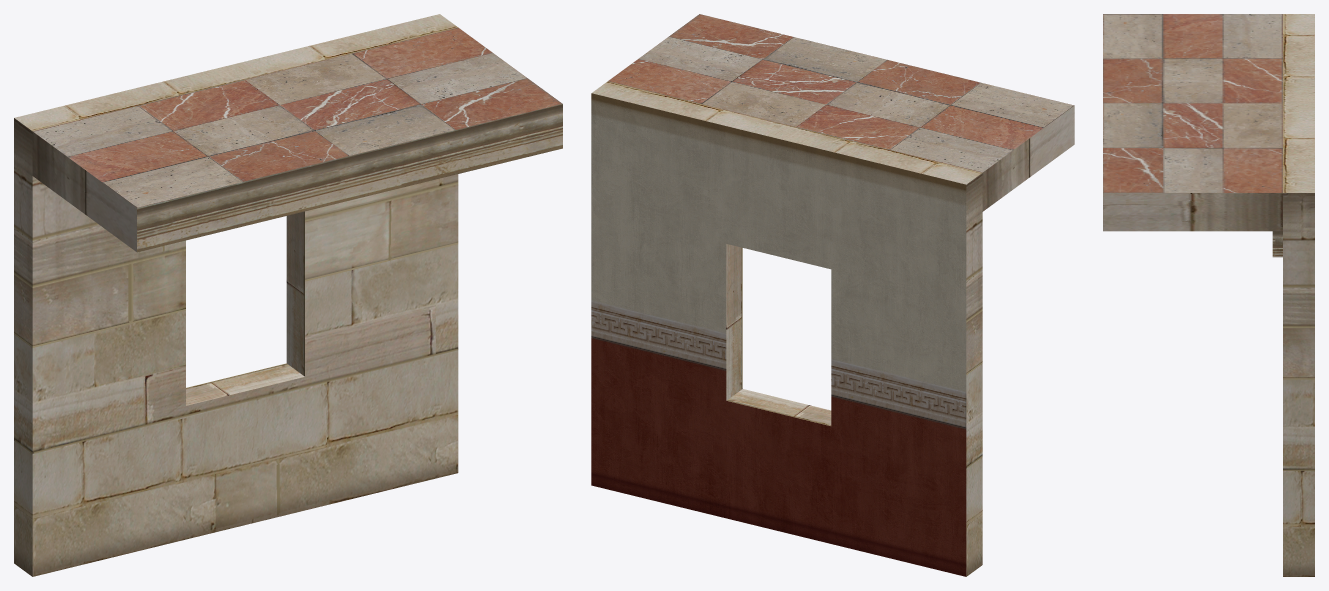
Rendered from svspartawindow3.dae.
3 renders of one model, left to right at view 1: azimuth 30°, elevation 25°; view 2: azimuth 150°, elevation 25°; view 3: azimuth 270°, elevation 25°, orthographic. The views are drawn at different scales.
Visible parts, largest first — view 1: unnamed_object6_sep56-0; view 2: unnamed_object6_sep56-0; view 3: unnamed_object6_sep56-0.
Boxes of the visible parts, x1=… form: unnamed_object6_sep56-0: x1=14, y1=14, x2=562, y2=576; unnamed_object6_sep56-0: x1=591, y1=14, x2=1074, y2=576; unnamed_object6_sep56-0: x1=1103, y1=14, x2=1314, y2=576.
Bounding box in the file's own units: 300 × 300 × 150.
